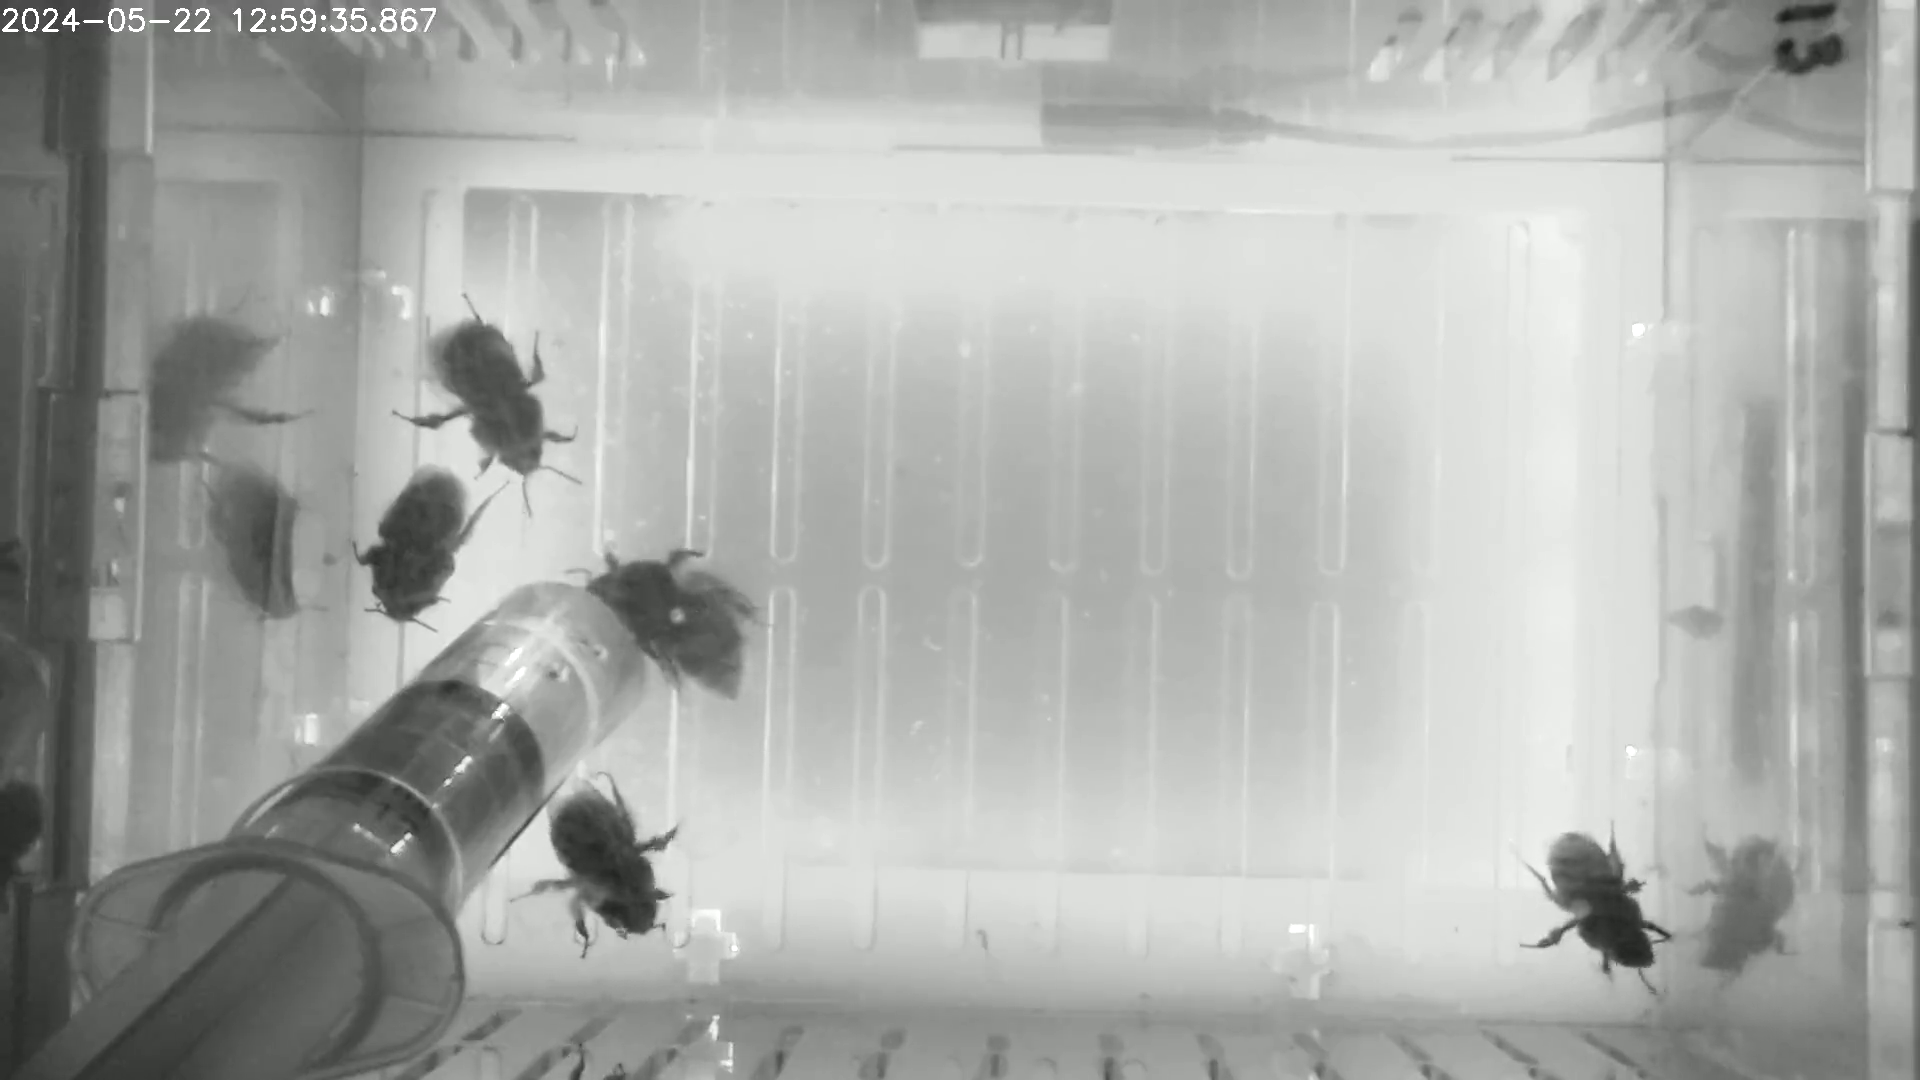bee: (381, 287, 592, 521), (562, 542, 781, 711), (509, 766, 690, 961), (1506, 814, 1687, 1009), (343, 452, 497, 636)
feeder: (401, 530, 692, 819)
